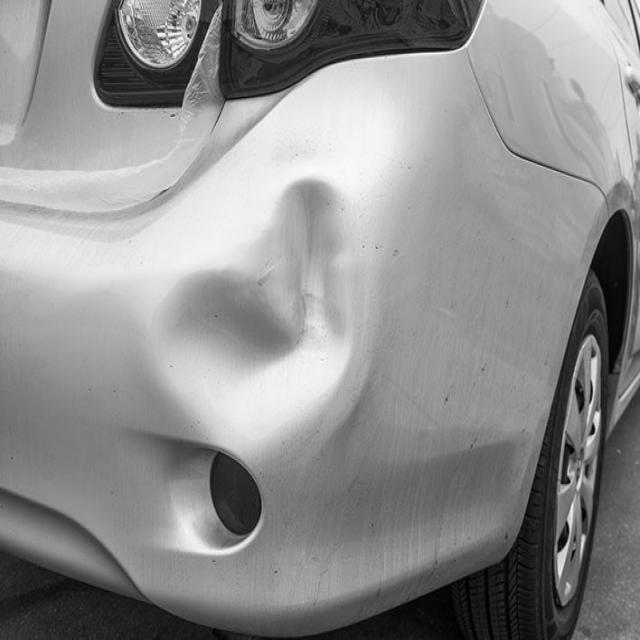dent: (147, 180, 372, 470)
scratch: (145, 184, 174, 205)
